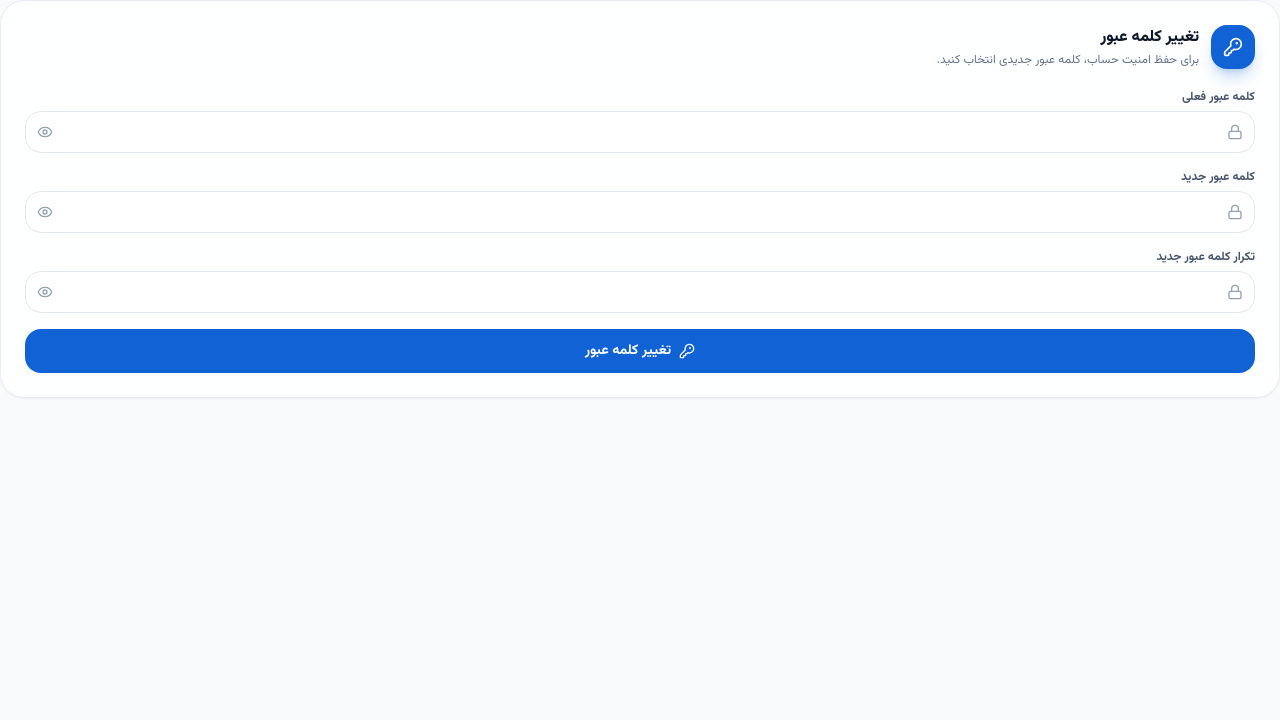
[component] PasswordForm › shows a generic error when the failure is not an Error instance
This screenshot has width=1280, height=720.
Type "OldPass123!" into the password field below "کلمه عبور فعلی".
click(640, 132); type("OldPass123!")  # box [25,111,1255,153]
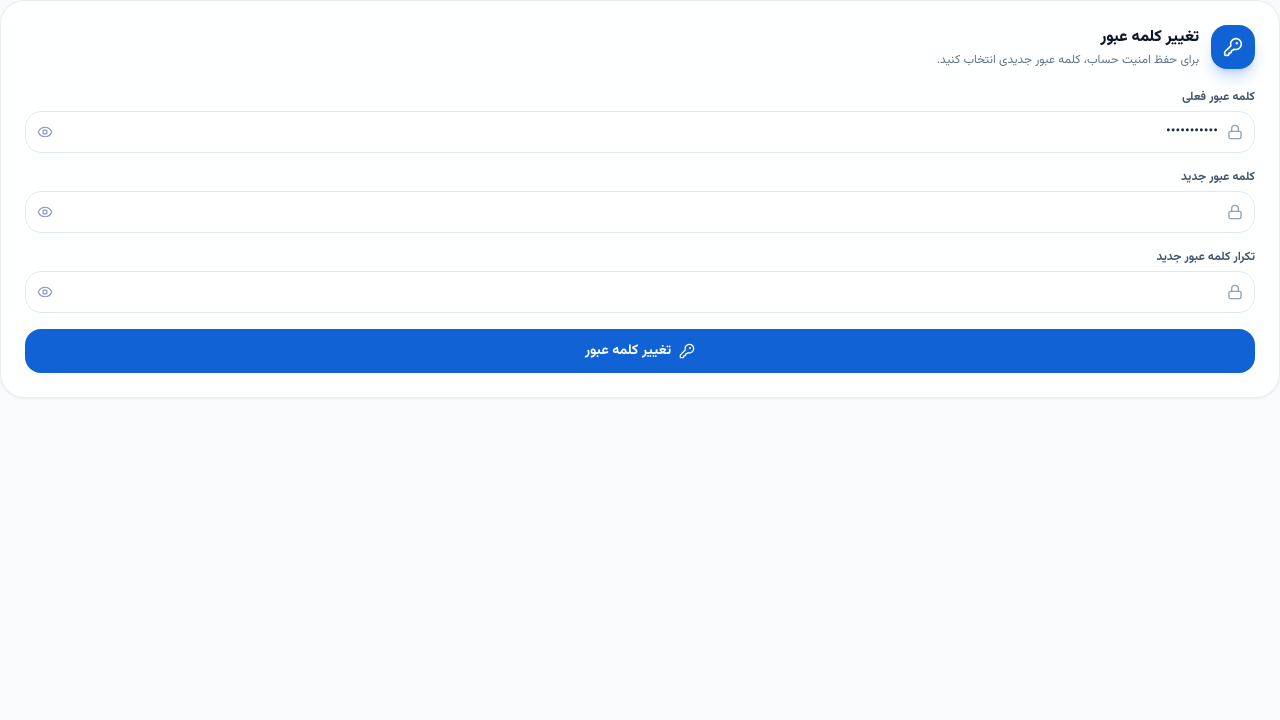
Type "NewPass123!" into the 2nd password field.
click(640, 212); type("NewPass123!")  # box [25,191,1255,233]
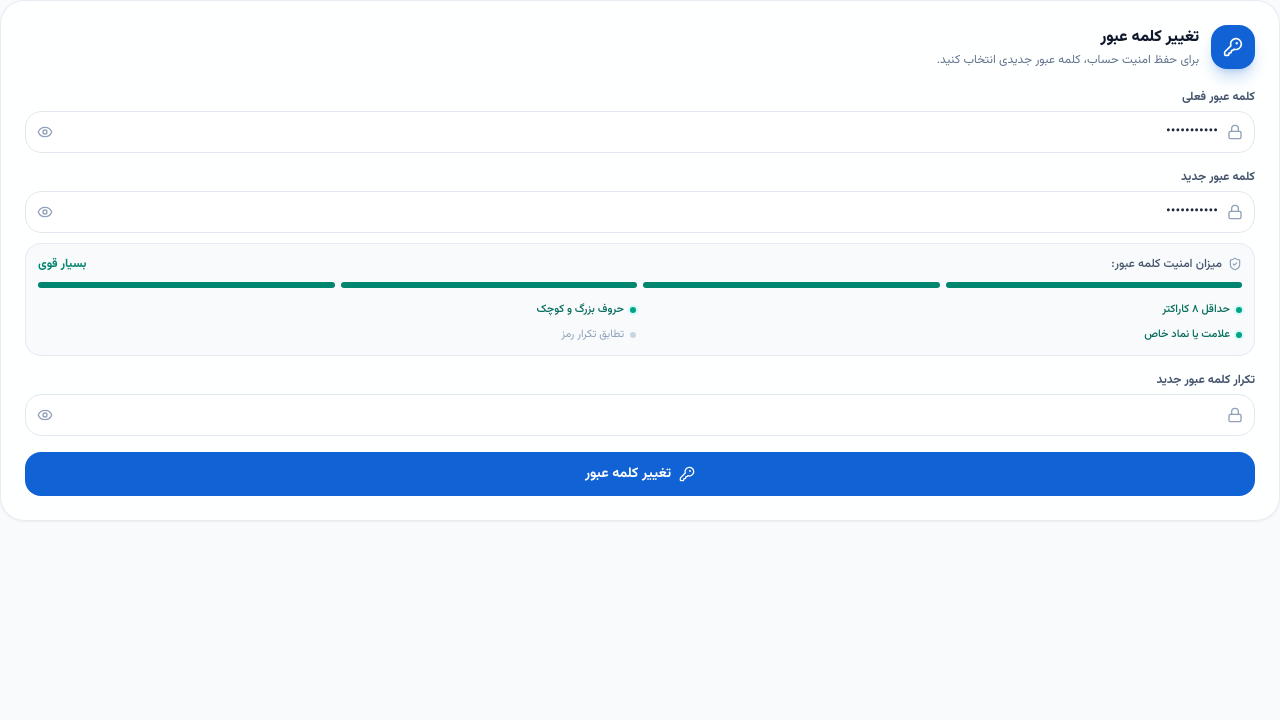
Type "NewPass123!" into the password field below "تکرار کلمه عبور جدید".
click(640, 415); type("NewPass123!")  # box [25,394,1255,436]
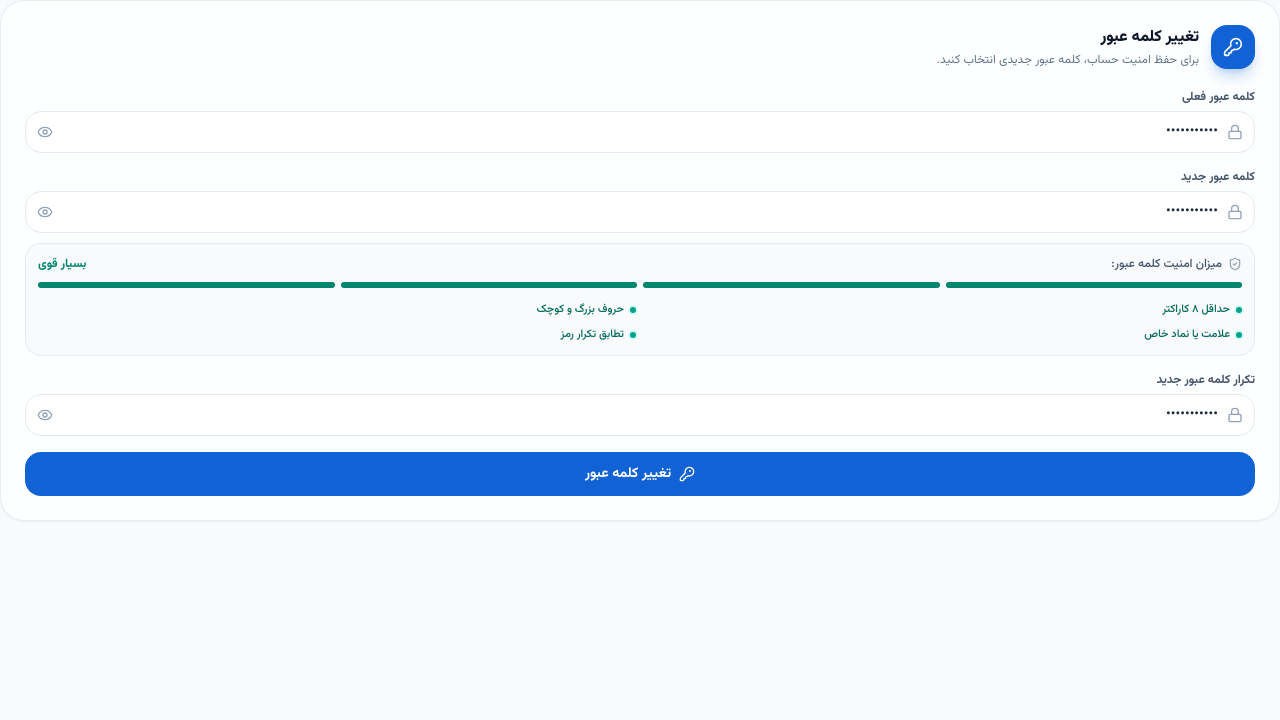
Click the button "تغییر کلمه عبور".
click(640, 474)  # box [25,452,1255,496]
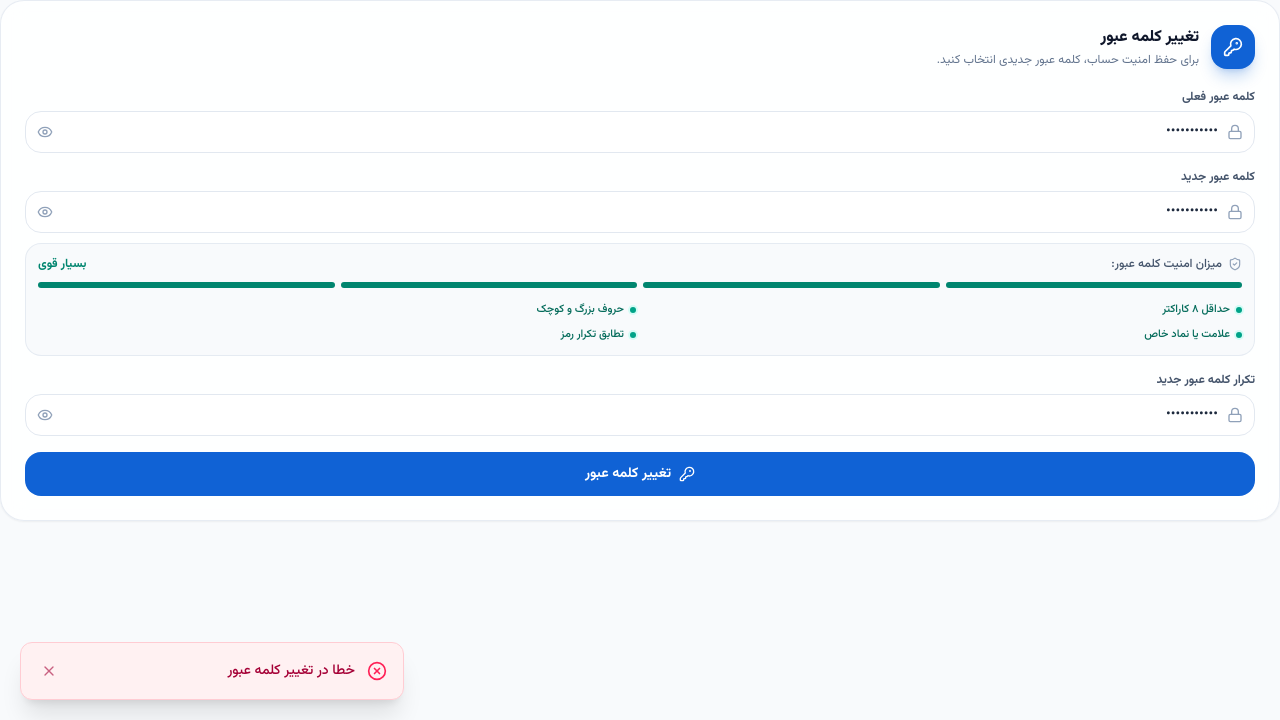
expect the text "خطا در تغییر کلمه عبور" is shown: met, box [227,661,355,681]
